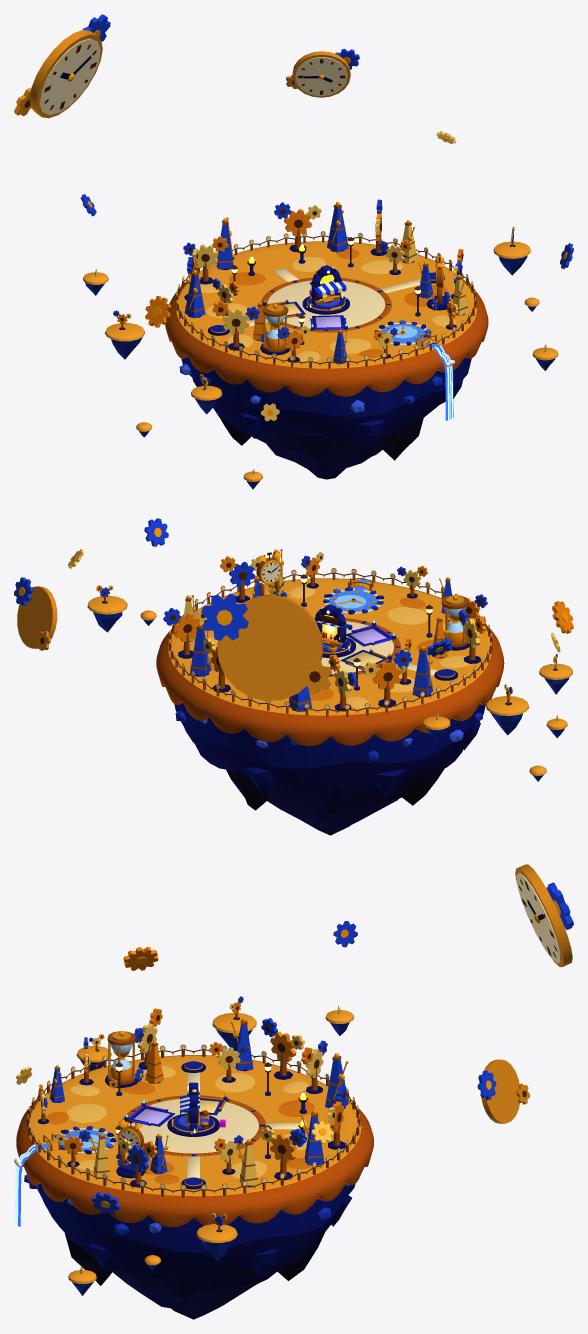
File: time_warp_island.fbx
The picture shows the model from 3 angles, top to bottom: view 1: azimuth 30°, elevation 25°; view 2: azimuth 150°, elevation 25°; view 3: azimuth 270°, elevation 25°; orthographic projection. The views are drawn at different scales.
Visible parts, largest first — view 1: TimeWarp_Island, TimeWarp_FloatingRocks, TimeWarp_Trees, TimeWarp_Dressing, TimeWarp_Paths, TimeWarp_Glow; view 2: TimeWarp_Island, TimeWarp_FloatingRocks, TimeWarp_Trees, TimeWarp_Dressing, TimeWarp_Paths, TimeWarp_Glow, TimeWarp_Portal, TimeWarp_Stall; view 3: TimeWarp_Island, TimeWarp_Trees, TimeWarp_FloatingRocks, TimeWarp_Dressing, TimeWarp_Paths, TimeWarp_Glow, TimeWarp_BossPlinth.
Part boxes in pixels (left/top/right/bottom): TimeWarp_Island: left=165, top=241, right=488, bottom=479; TimeWarp_FloatingRocks: left=14, top=14, right=573, bottom=489; TimeWarp_Trees: left=183, top=199, right=468, bottom=363; TimeWarp_Dressing: left=176, top=231, right=476, bottom=368; TimeWarp_Paths: left=208, top=268, right=444, bottom=335; TimeWarp_Glow: left=231, top=240, right=454, bottom=420; TimeWarp_Island: left=156, top=578, right=504, bottom=835; TimeWarp_FloatingRocks: left=14, top=518, right=573, bottom=781; TimeWarp_Trees: left=163, top=549, right=487, bottom=711; TimeWarp_Dressing: left=168, top=552, right=492, bottom=717; TimeWarp_Paths: left=204, top=618, right=457, bottom=680; TimeWarp_Glow: left=300, top=578, right=432, bottom=666; TimeWarp_Portal: left=315, top=605, right=349, bottom=650; TimeWarp_Stall: left=315, top=614, right=352, bottom=651; TimeWarp_Island: left=16, top=1055, right=373, bottom=1319; TimeWarp_Trees: left=37, top=1008, right=348, bottom=1187; TimeWarp_FloatingRocks: left=16, top=864, right=573, bottom=1295; TimeWarp_Dressing: left=26, top=1031, right=360, bottom=1197; TimeWarp_Paths: left=122, top=1061, right=300, bottom=1189; TimeWarp_Glow: left=14, top=1066, right=306, bottom=1226; TimeWarp_BossPlinth: left=167, top=1113, right=219, bottom=1136.
Size of the model in its own units: 181 by 151 by 192.
